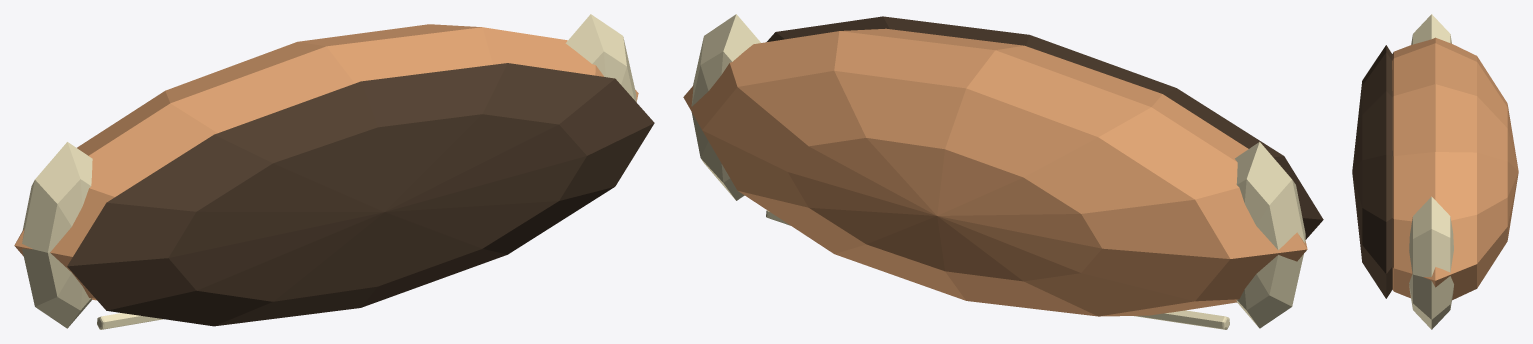
File: eclair.glb
3 views of the same model, side by side, from view 1: azimuth 30°, elevation 25°; view 2: azimuth 150°, elevation 25°; view 3: azimuth 270°, elevation 25° (orthographic). The views are drawn at different scales.
Parts seen in each view (by area): view 1: eclair; view 2: eclair; view 3: eclair.
Part boxes in pixels (x1=…): eclair: x1=14, y1=14, x2=654, y2=329; eclair: x1=683, y1=14, x2=1323, y2=329; eclair: x1=1352, y1=14, x2=1518, y2=329.
Size of the model in its own units: 0.136 by 0.0512 by 0.044.
